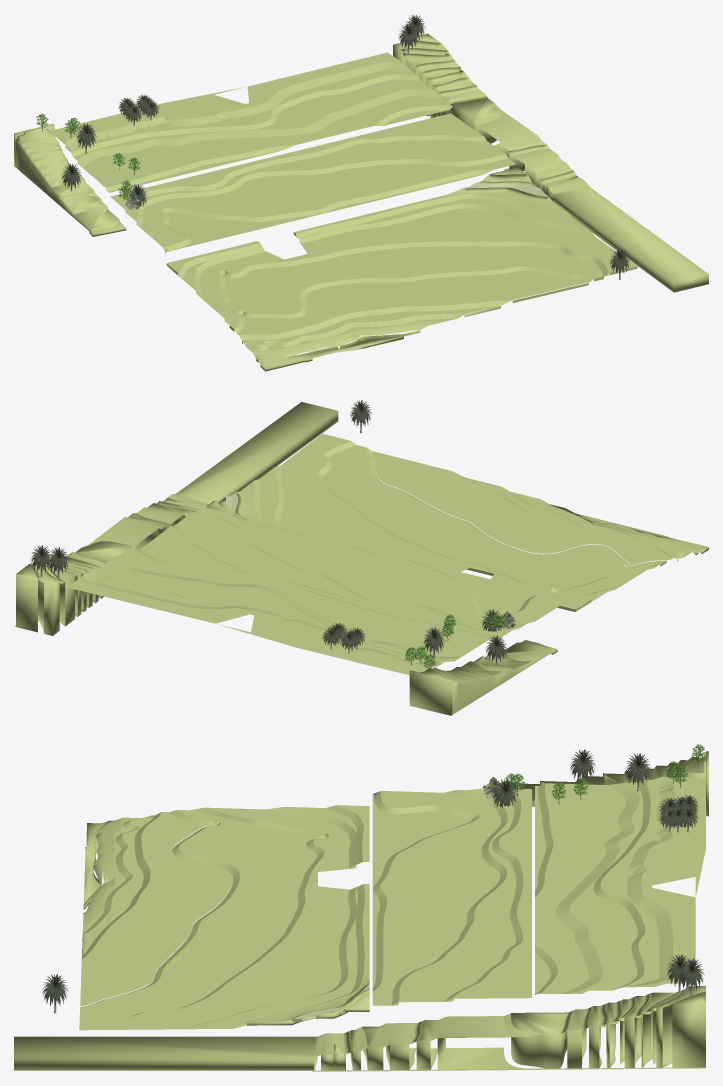
Rendered from Garden_B.fbx.
3 views of the same model, one above another, from view 1: azimuth 30°, elevation 25°; view 2: azimuth 150°, elevation 25°; view 3: azimuth 270°, elevation 25° (orthographic). The views are drawn at different scales.
Parts seen in each view (by area): view 1: Grass, Palm_Leaves, Orange_Tree_Leaves; view 2: Grass, Palm_Leaves, Orange_Tree_Leaves; view 3: Grass, Palm_Leaves, Orange_Tree_Leaves.
Part boxes in pixels (x1,y1,x2,y2): Grass: (14,33,708,371); Palm_Leaves: (61,14,630,273); Orange_Tree_Leaves: (36,113,140,199); Grass: (14,402,708,715); Palm_Leaves: (30,400,507,662); Orange_Tree_Leaves: (405,613,506,668); Grass: (14,751,708,1071); Palm_Leaves: (42,749,704,1006); Orange_Tree_Leaves: (504,744,706,799).
Bounding box in the file's own units: 180 × 33.6 × 200.
